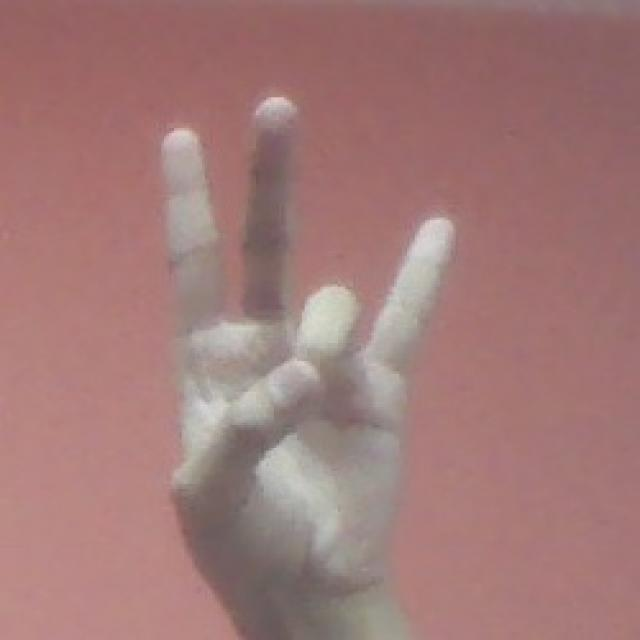Numeric-7: (142, 80, 467, 596)
